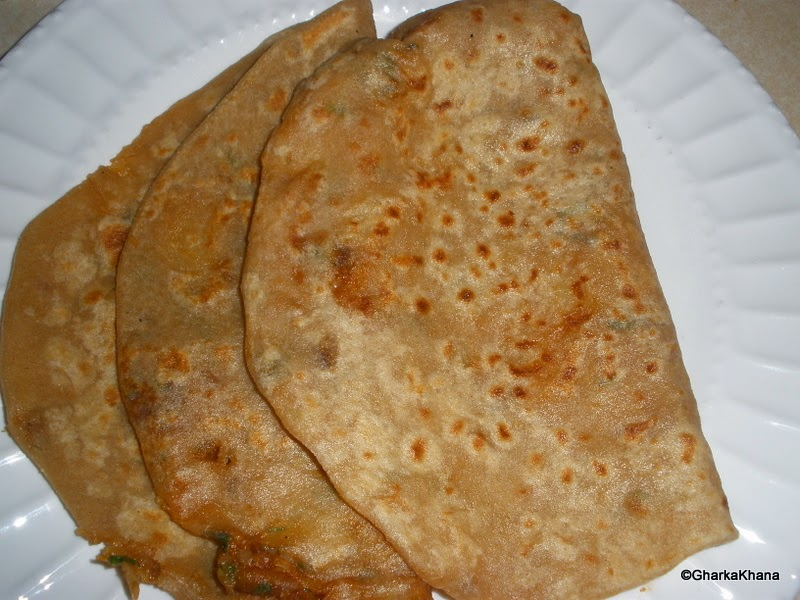aloo_paratha: (1, 1, 743, 600)
